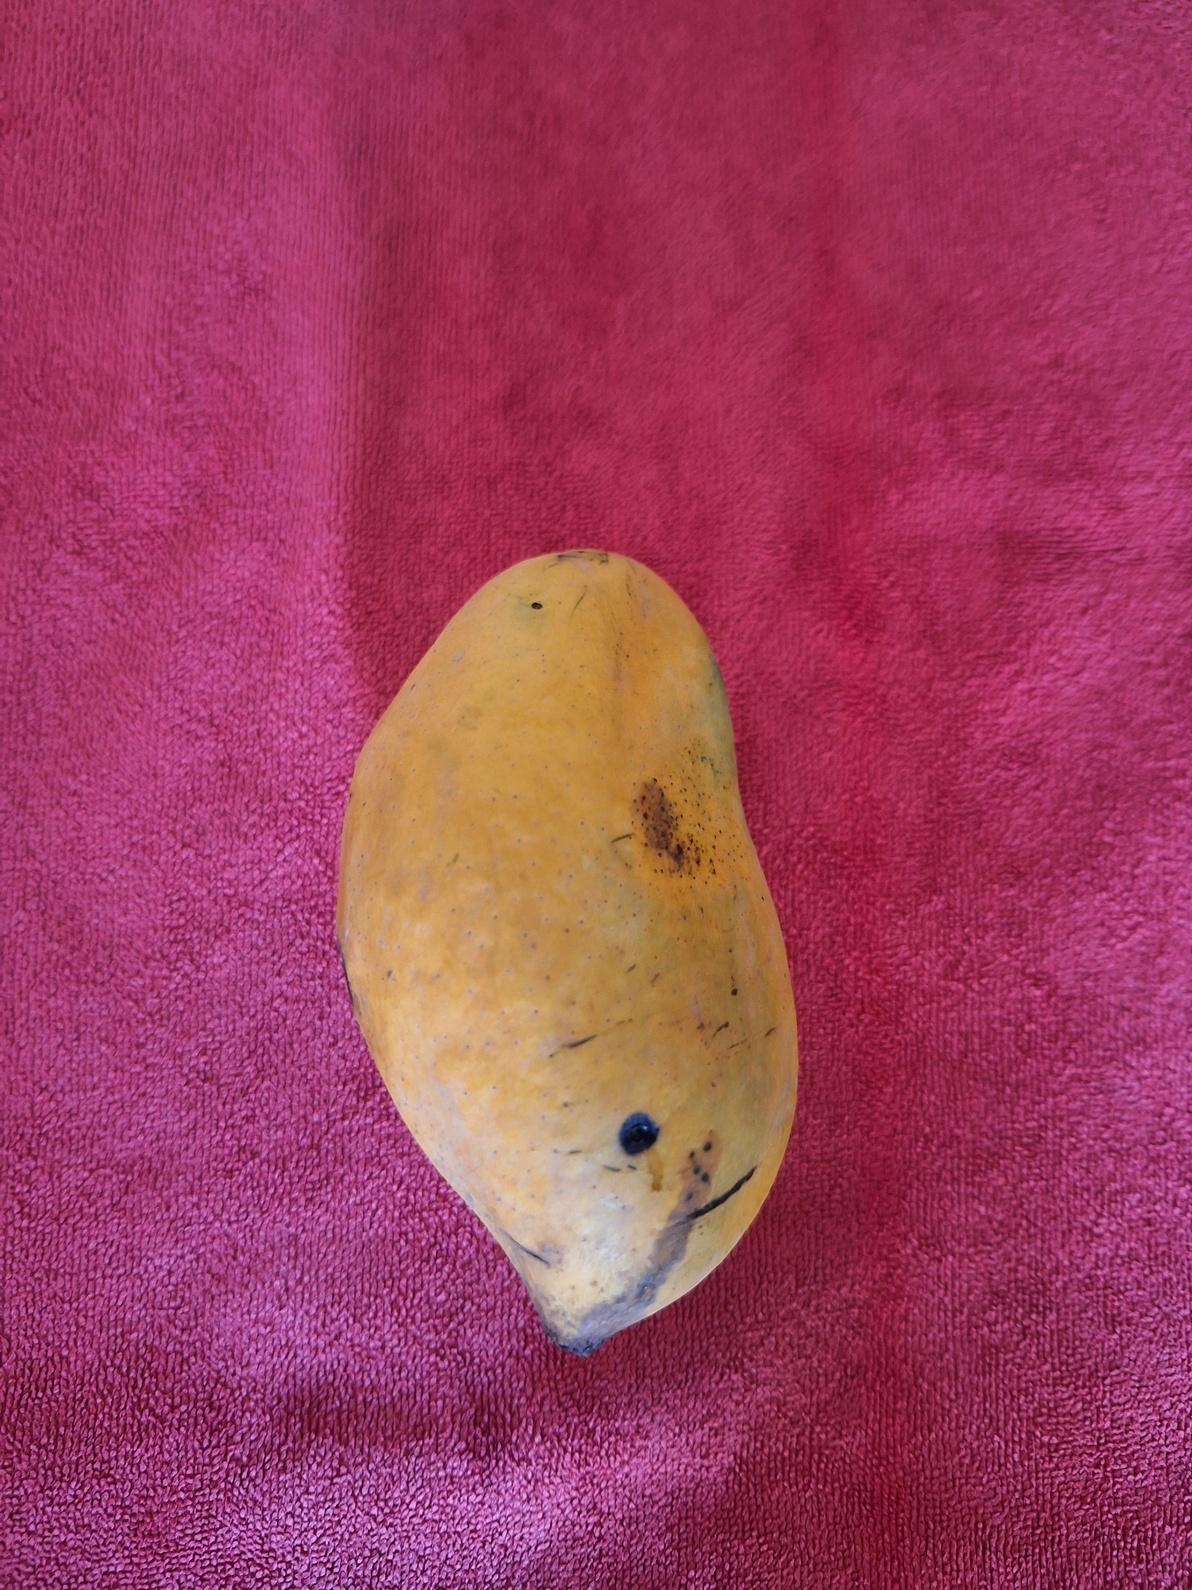mango: (334, 545, 800, 1357)
